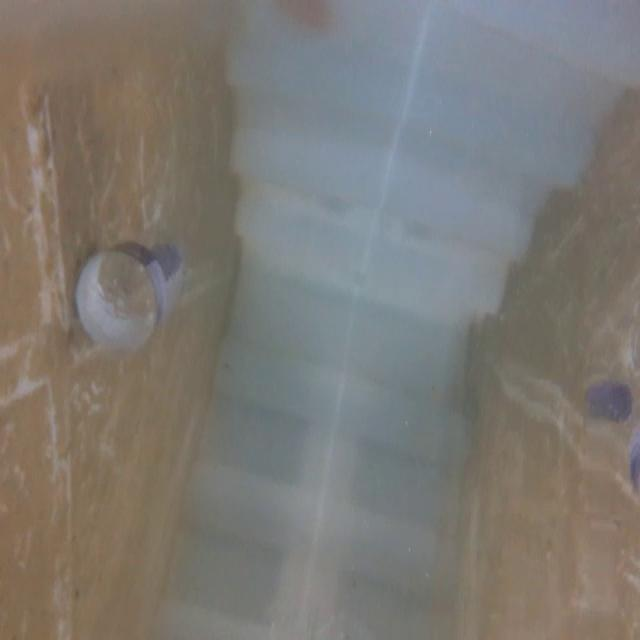plastic bottle: (46, 211, 201, 362)
